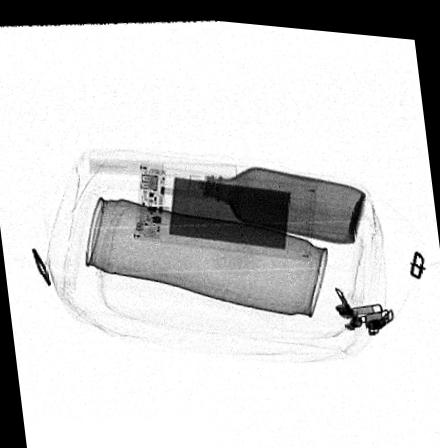Powerbank: (129, 160, 315, 254)
